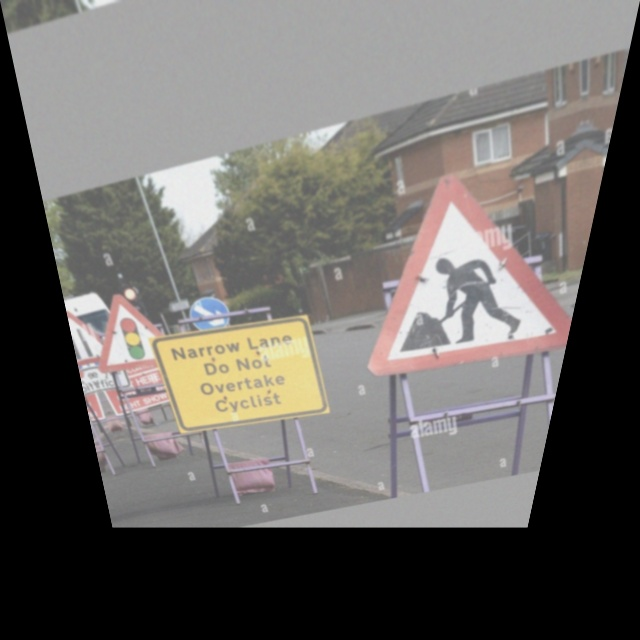Men_at_Work: (330, 126, 611, 389)
